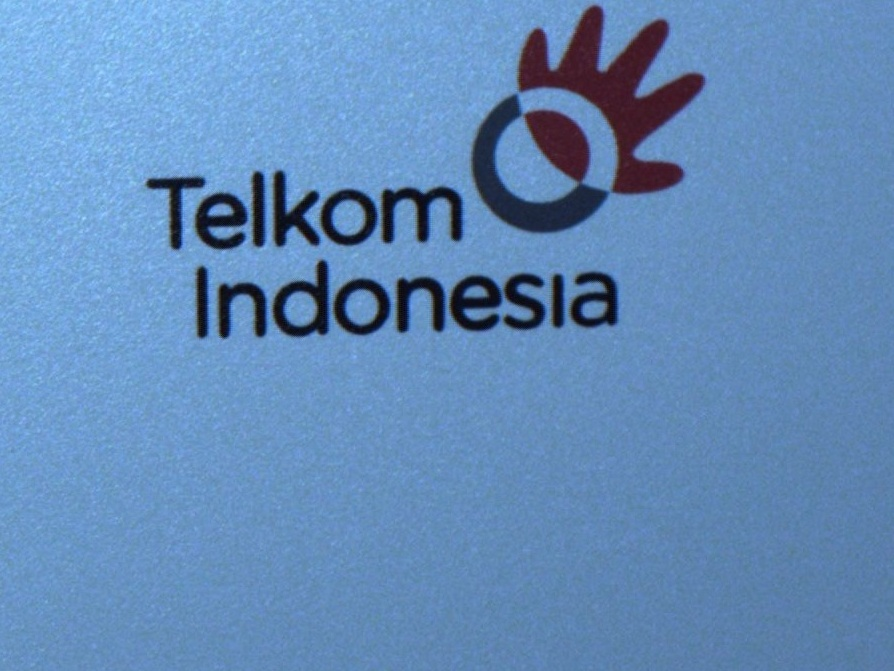BQ_IndonTelkom: (125, 6, 711, 340)
